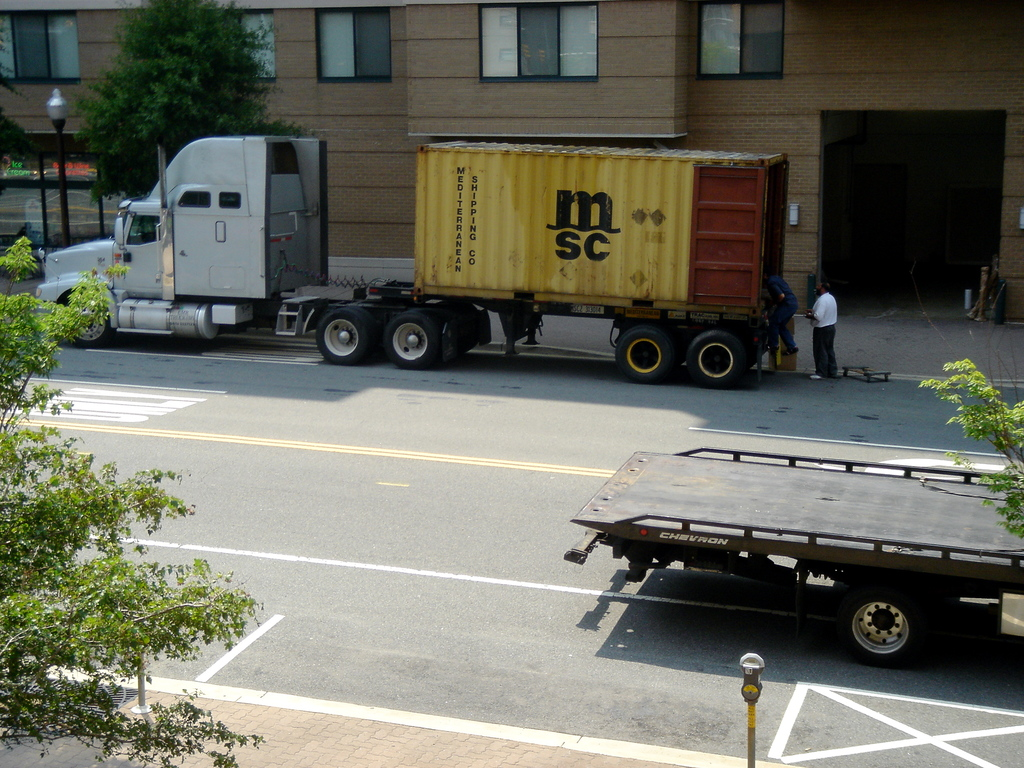truck: (15, 108, 799, 414)
